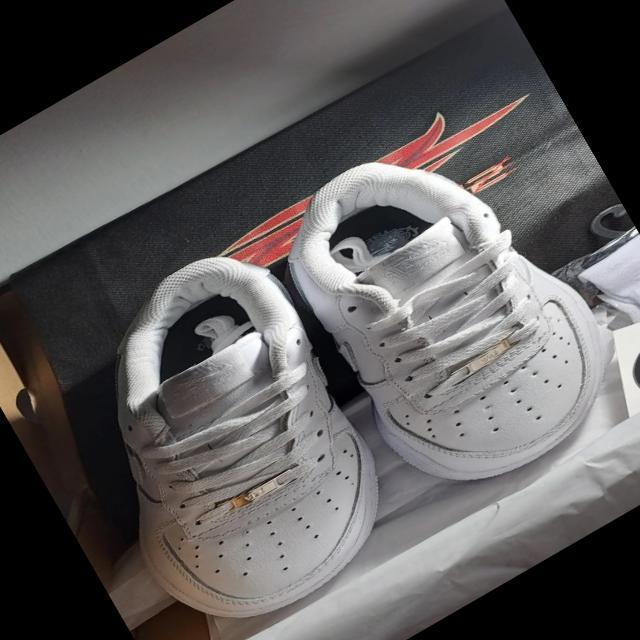nike fake air force: (249, 83, 640, 528), (27, 221, 429, 640)
